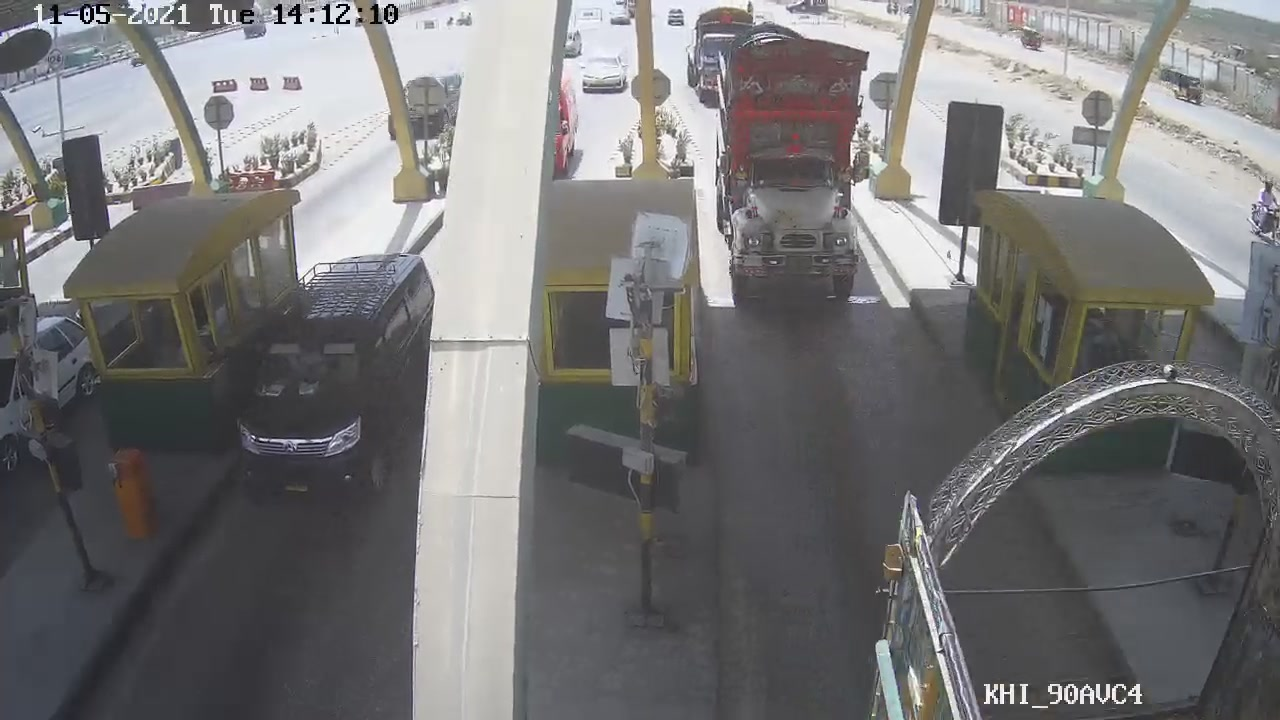F5: (706, 34, 891, 314)
